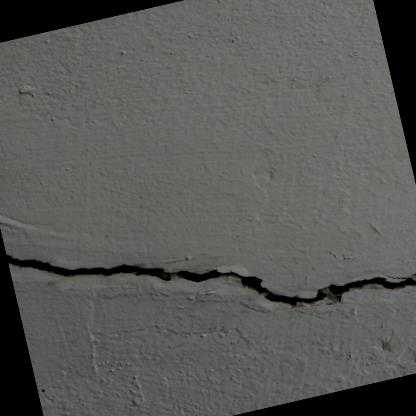crack: (8, 252, 416, 309)
